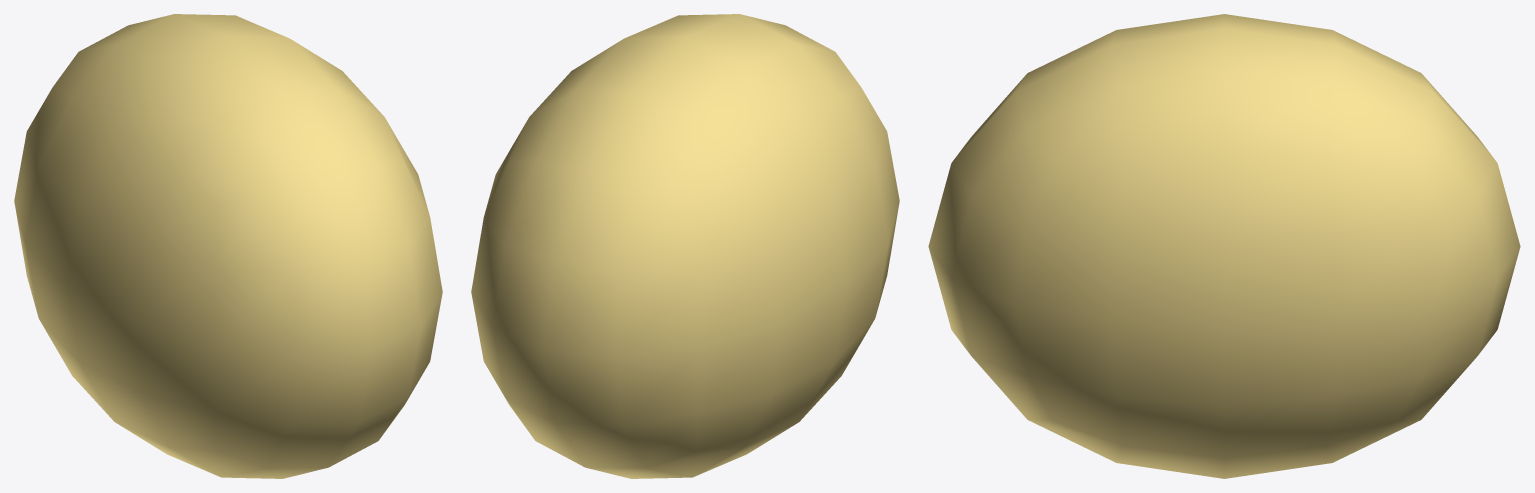
3 views of the same model, side by side, from view 1: azimuth 30°, elevation 25°; view 2: azimuth 150°, elevation 25°; view 3: azimuth 270°, elevation 25° (orthographic). The views are drawn at different scales.
Visible parts, largest first — view 1: ZA_c21b58bf9b56c517; view 2: ZA_c21b58bf9b56c517; view 3: ZA_c21b58bf9b56c517.
Boxes of the visible parts, x1,y1,x2,y2 form: ZA_c21b58bf9b56c517: (14,14,442,478); ZA_c21b58bf9b56c517: (471,14,899,478); ZA_c21b58bf9b56c517: (928,14,1520,478).
Size of the model in its own units: 0.00161 by 0.00199 by 0.00245.
